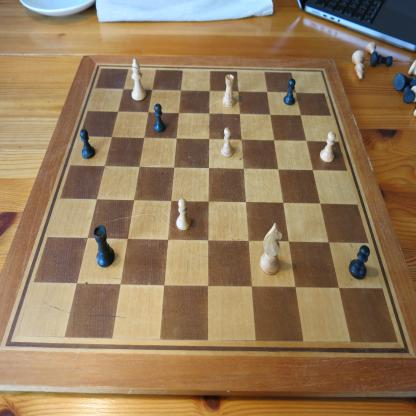black-pawn: (348, 244, 370, 280), (80, 128, 96, 160), (153, 103, 166, 133), (283, 78, 296, 106)
black-rook: (93, 225, 115, 268), (370, 51, 393, 68)
white-bishop: (130, 58, 146, 101), (349, 50, 366, 81)
white-knight: (260, 222, 283, 276)
white-pawn: (319, 131, 337, 164), (176, 198, 191, 231), (221, 126, 234, 158)
white-rook: (222, 74, 235, 108)
